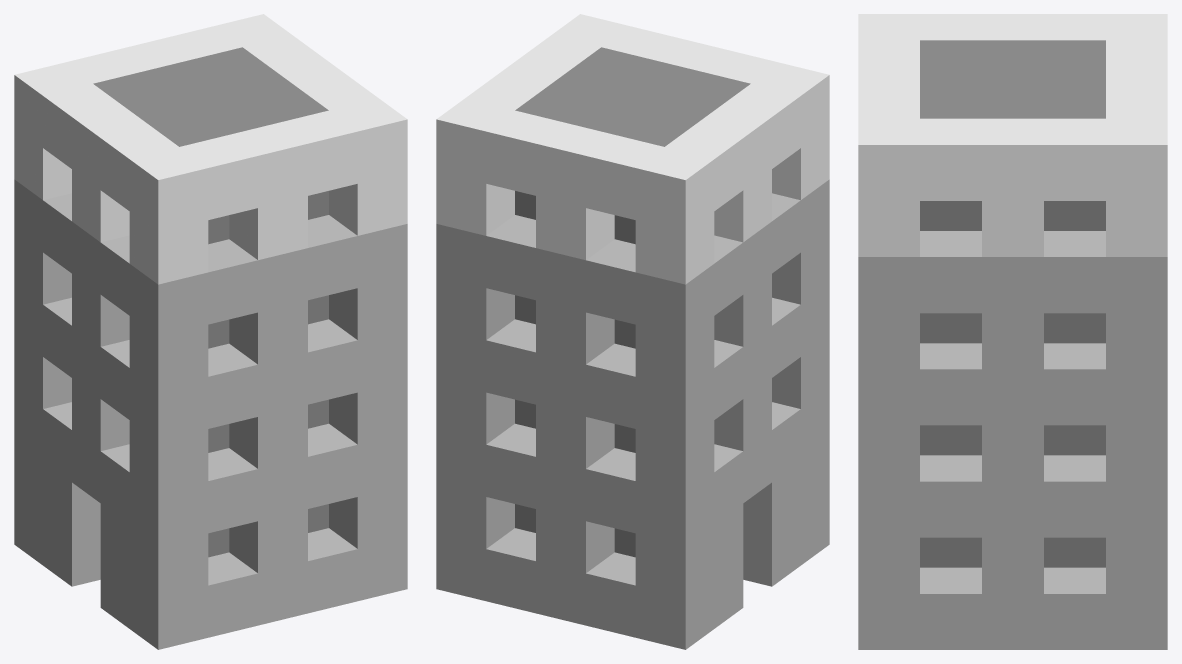
File: tlc_building.obj
3 renders of one model, left to right at view 1: azimuth 30°, elevation 25°; view 2: azimuth 150°, elevation 25°; view 3: azimuth 270°, elevation 25°, orthographic. The views are drawn at different scales.
Size of the model in its own units: 0.5 by 0.9 by 0.5.
Materials: 1 (1 with a texture image).
